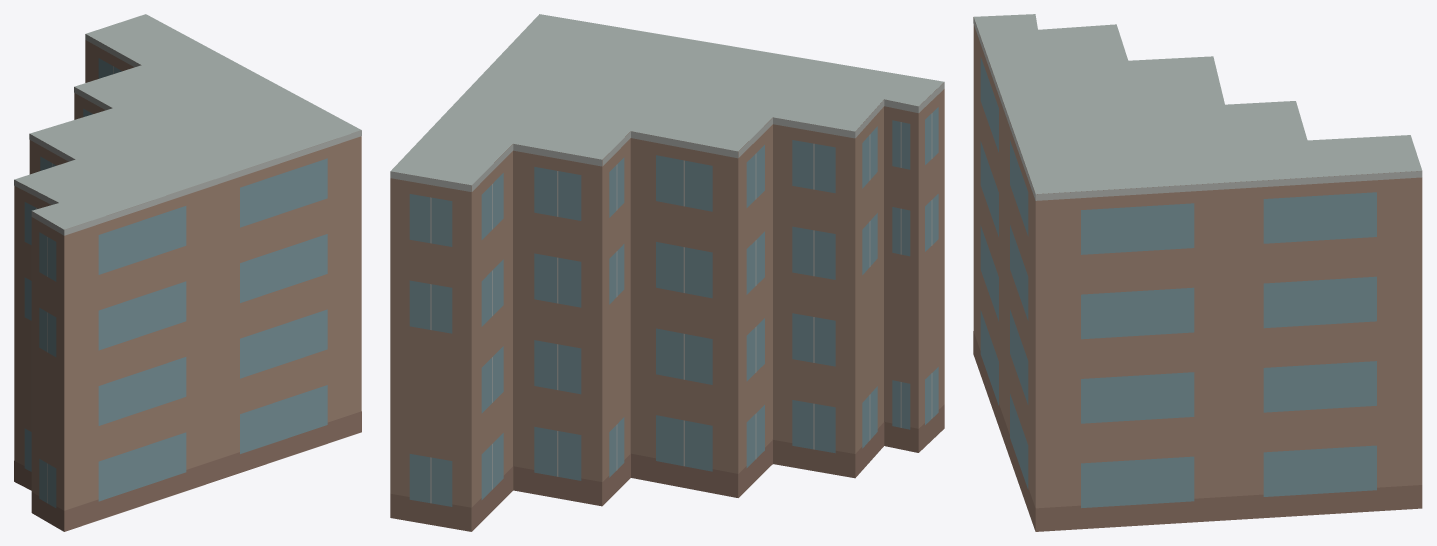
Rendered from survey-upis-33017739.glb.
The picture shows the model from 3 angles, left to right: view 1: azimuth 30°, elevation 25°; view 2: azimuth 150°, elevation 25°; view 3: azimuth 270°, elevation 25°; orthographic projection. The views are drawn at different scales.
Visible parts, largest first — view 1: survey-upis-33017739.tmp; view 2: survey-upis-33017739.tmp; view 3: survey-upis-33017739.tmp.
Part boxes in pixels (box(x1,y1,x2,y2)): survey-upis-33017739.tmp: box(14, 14, 361, 531); survey-upis-33017739.tmp: box(390, 14, 944, 531); survey-upis-33017739.tmp: box(973, 14, 1422, 531).
Bounding box in the file's own units: 14.08 × 12.3 × 14.82.
